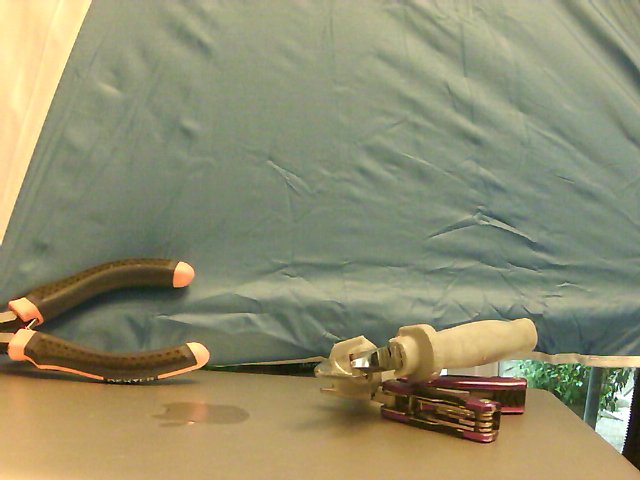pliers: (317, 378, 530, 450), (319, 316, 542, 383)
